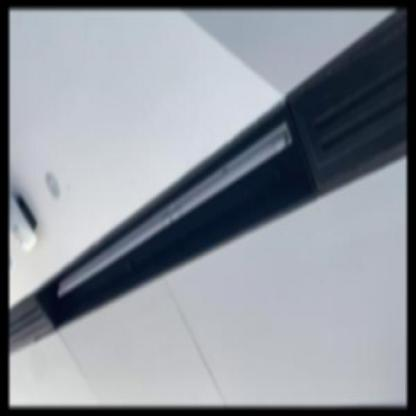light_off: (49, 113, 300, 307)
